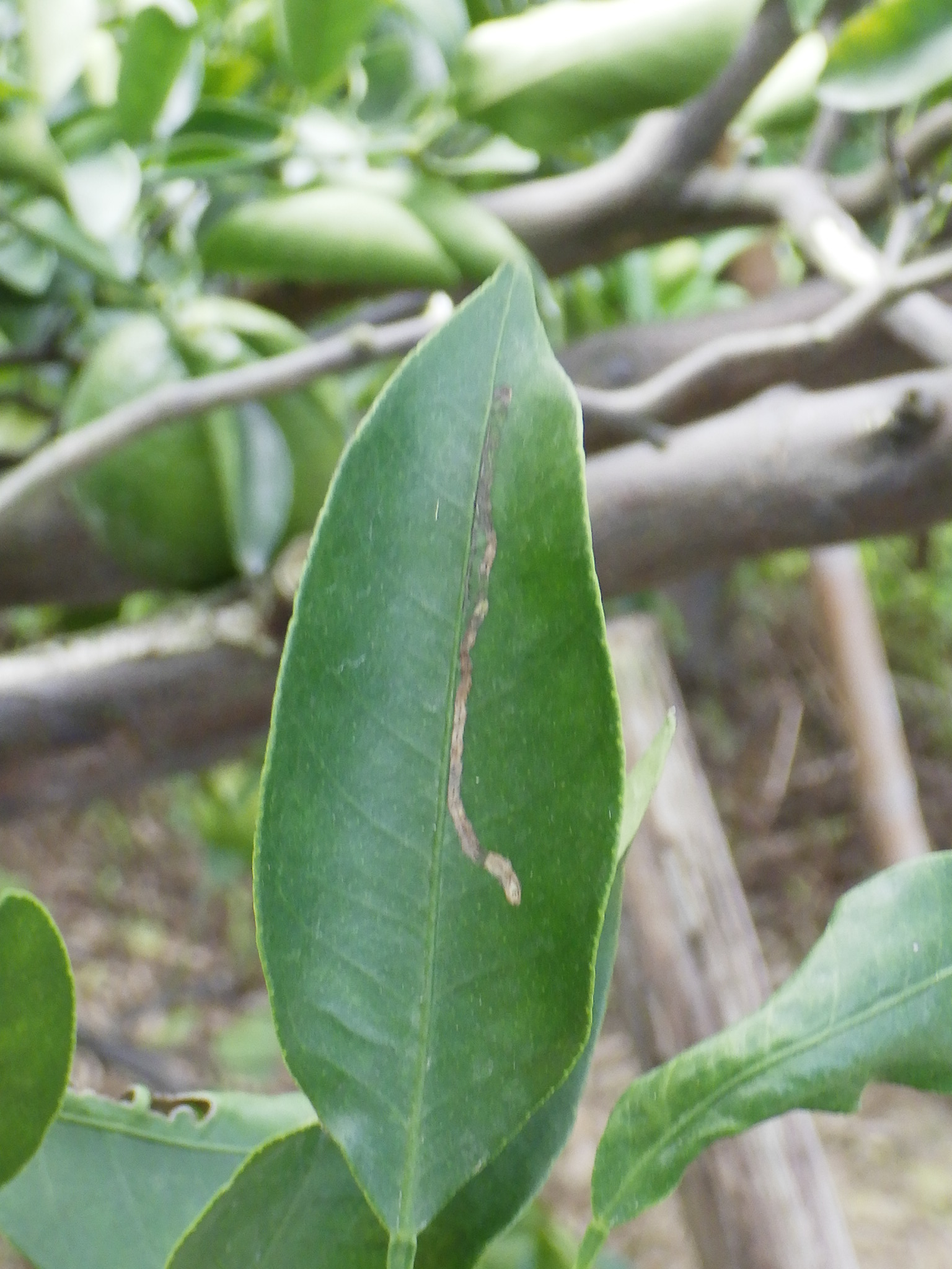Citrus_Leaf_Miner: (447, 386, 521, 905)
